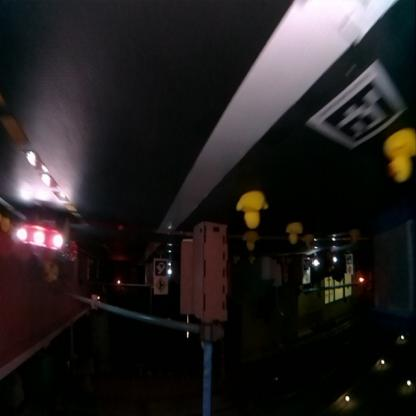Duckie: (384, 132, 414, 182), (236, 193, 264, 227), (286, 223, 300, 247), (244, 232, 258, 248)
Intersection sign: (154, 278, 166, 294)
QR code: (309, 64, 403, 148), (154, 260, 166, 276)
Traffic light: (91, 296, 99, 306)
